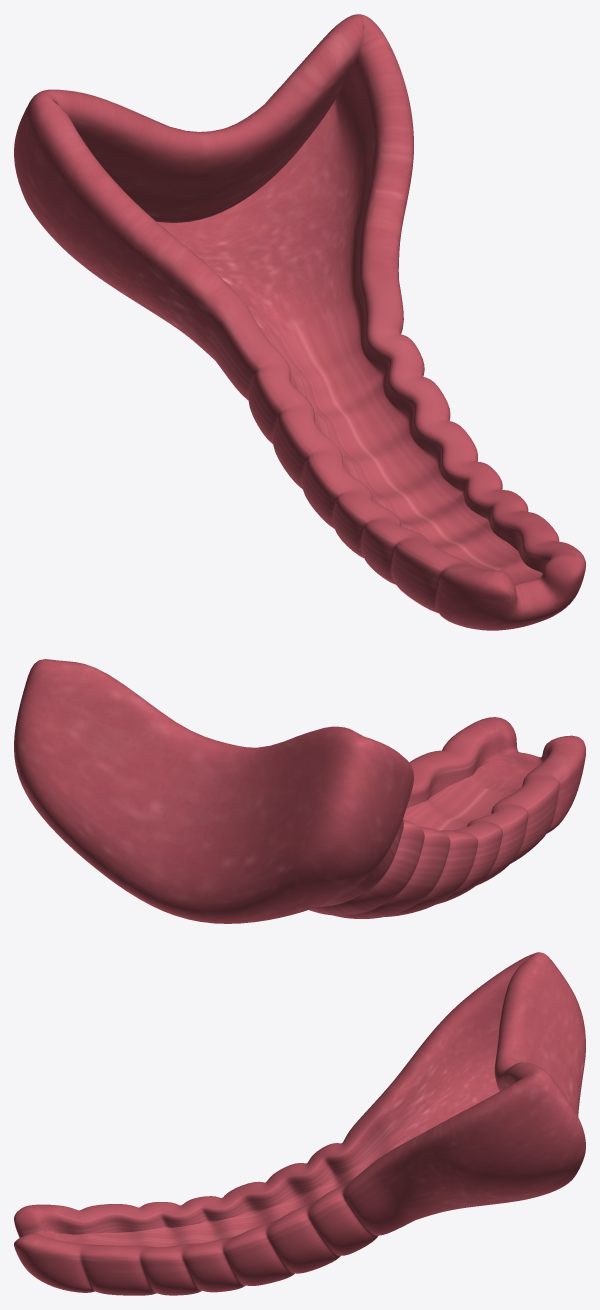
Rendered from Vagina.glb.
3 views of the same model, one above another, from view 1: azimuth 30°, elevation 25°; view 2: azimuth 150°, elevation 25°; view 3: azimuth 270°, elevation 25° (orthographic). The views are drawn at different scales.
Parts seen in each view (by area): view 1: Vagina; view 2: Vagina; view 3: Vagina.
Part boxes in pixels (x1,y1,x2,y2): Vagina: (14, 14, 585, 630); Vagina: (14, 659, 585, 923); Vagina: (14, 952, 585, 1295).
Bounding box in the file's own units: 0.9974 × 0.9665 × 1.82.
1 material, 1 textured.
